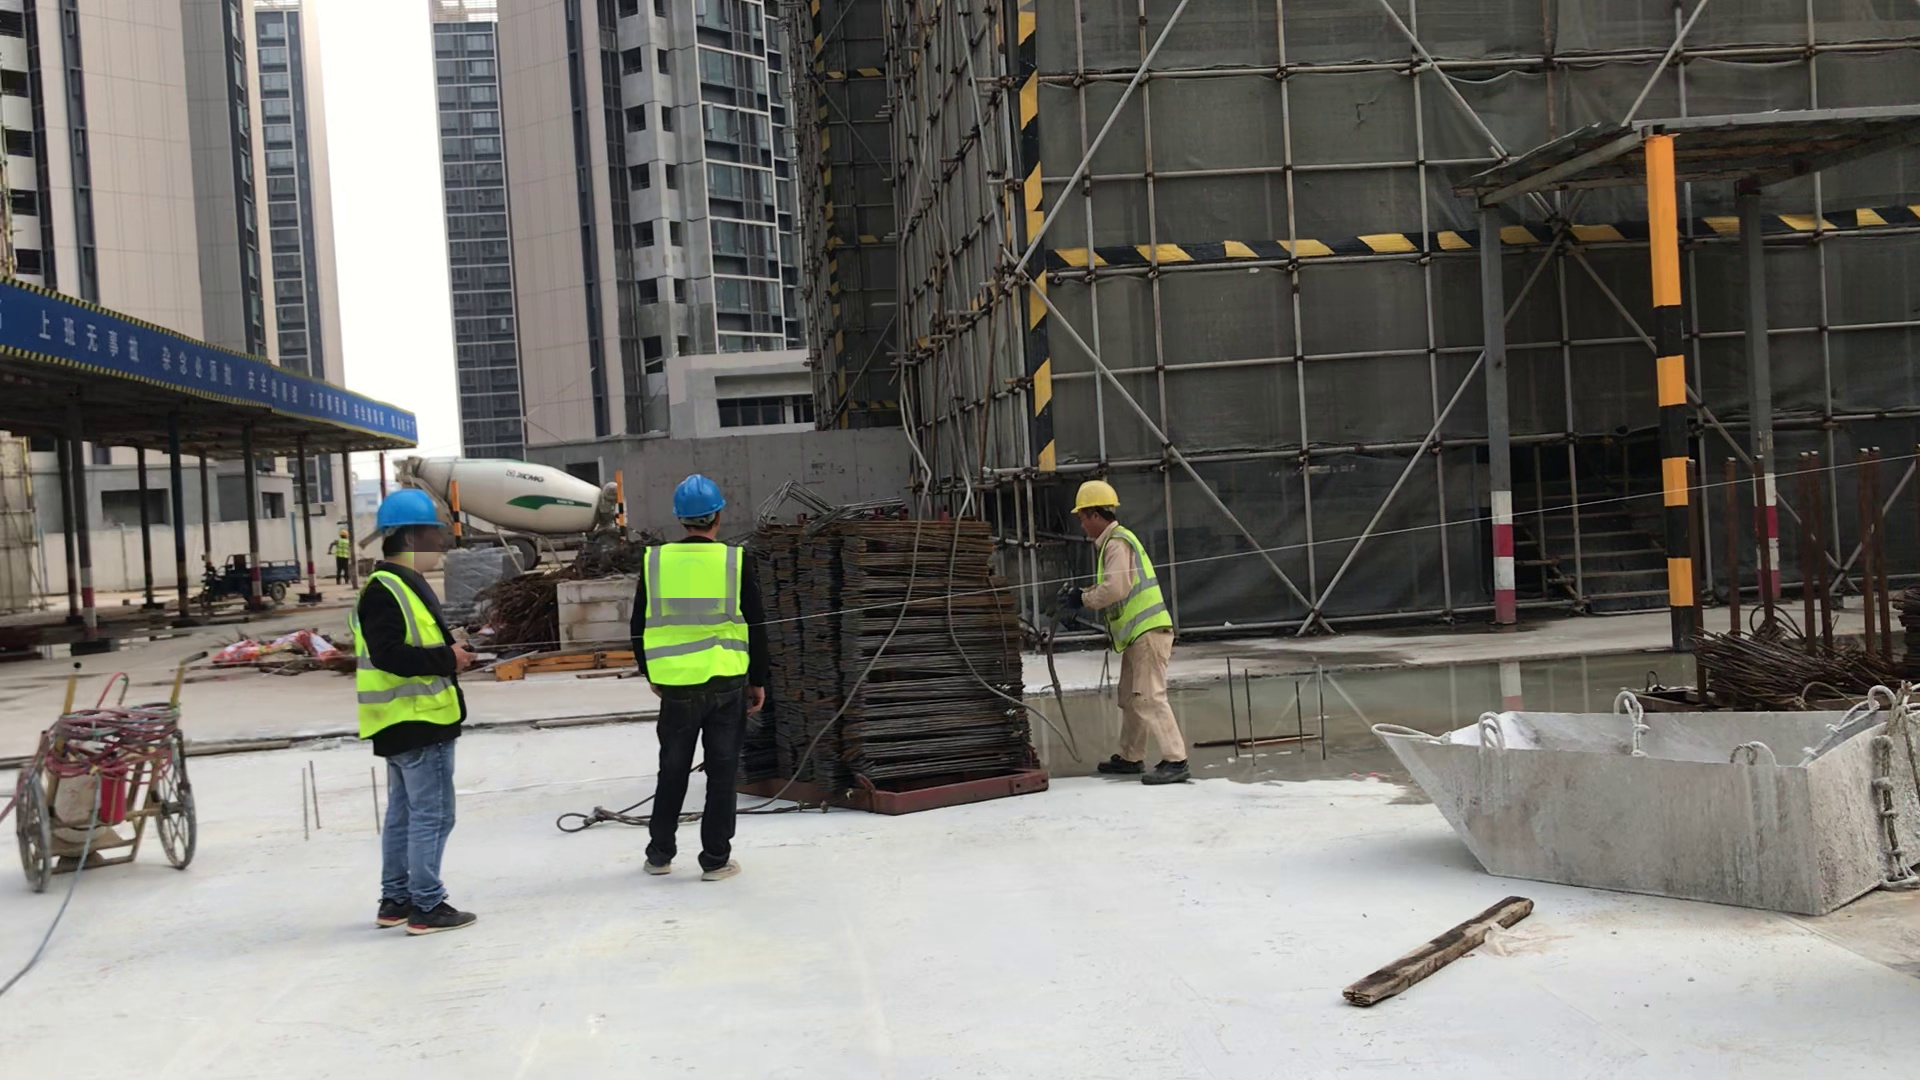helmet: (375, 489, 441, 528), (672, 474, 726, 518), (1068, 482, 1121, 512)
person: (627, 473, 767, 884), (354, 493, 477, 937), (1069, 483, 1194, 789), (331, 530, 351, 584)
vest: (356, 574, 459, 735), (643, 541, 752, 691), (1101, 529, 1166, 649)
